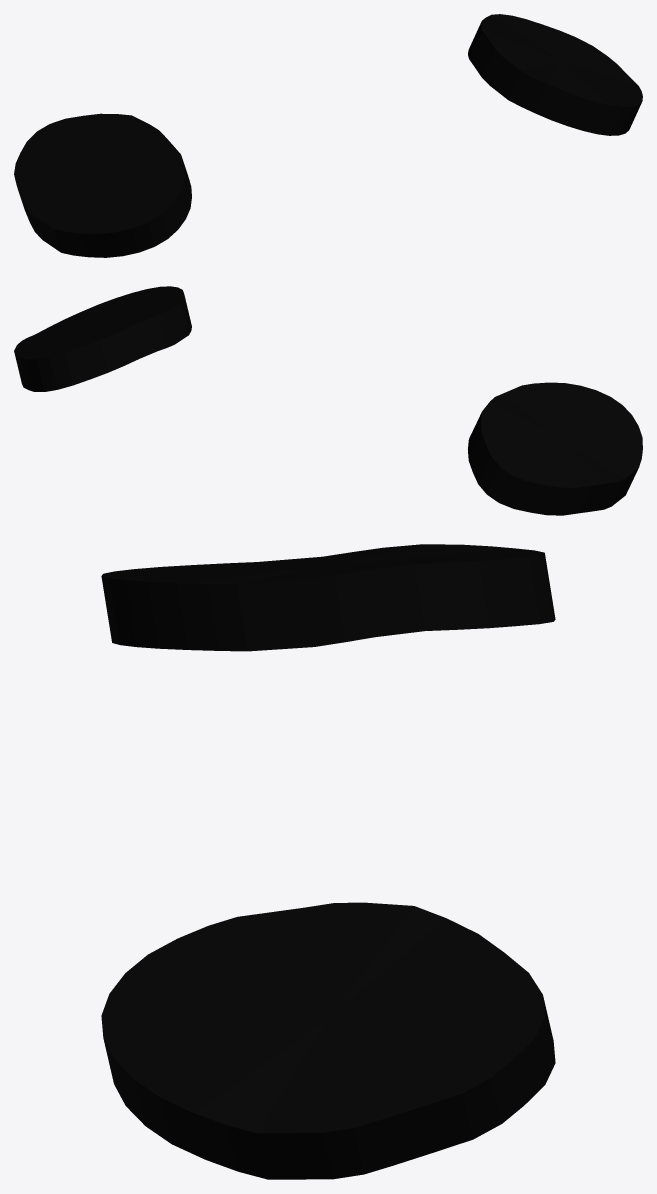
Rendered from Kid_OpenEyes.fbx.
The picture shows the model from 3 angles, top to bottom: view 1: azimuth 30°, elevation 25°; view 2: azimuth 150°, elevation 25°; view 3: azimuth 270°, elevation 25°; orthographic projection. The views are drawn at different scales.
Visible parts, largest first — view 1: KidEyes:KidEyes; view 2: KidEyes:KidEyes; view 3: KidEyes:KidEyes.
Part boxes in pixels (x1,y1,x2,y2): KidEyes:KidEyes: (14, 14, 642, 257); KidEyes:KidEyes: (14, 286, 642, 515); KidEyes:KidEyes: (101, 544, 555, 1179).
Bounding box in the file's own units: 128 × 17.57 × 42.73.
Materials: 1 (1 with a texture image).
